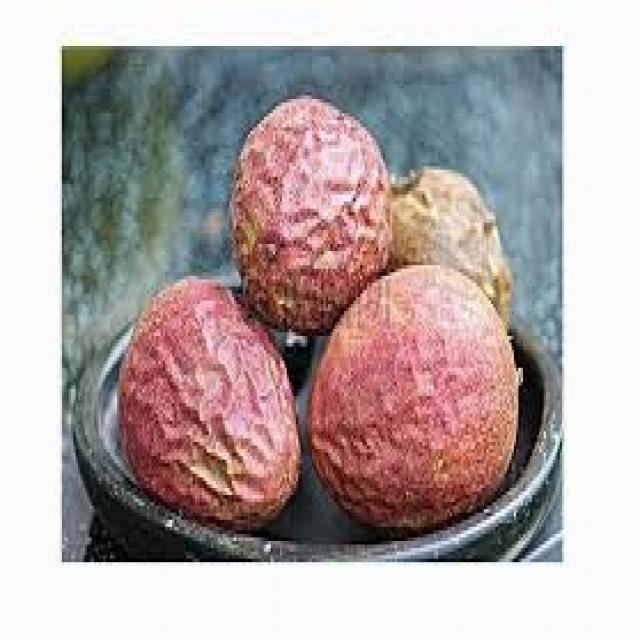organic waste: (305, 262, 519, 534), (117, 276, 298, 530), (227, 89, 392, 332), (386, 166, 512, 329), (59, 42, 108, 92)
